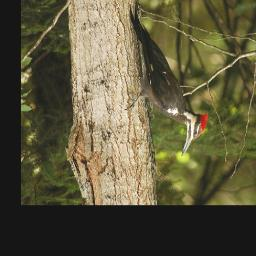Woodpecker: (122, 3, 210, 157)
